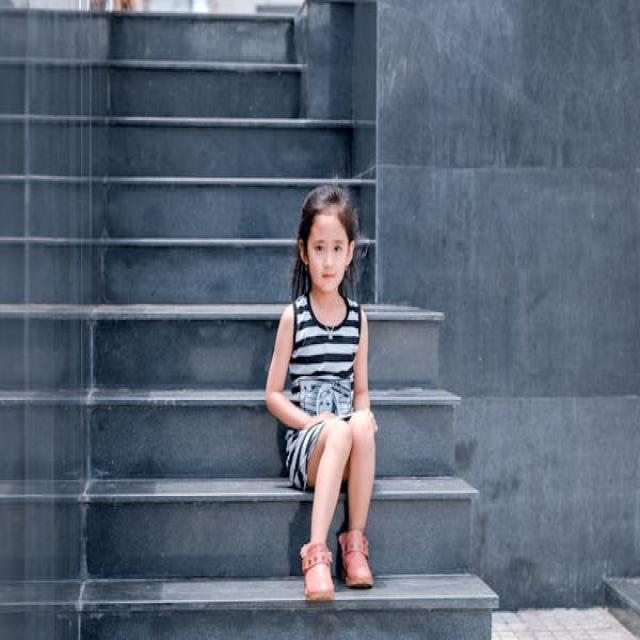Real human 2: (257, 163, 398, 636)
